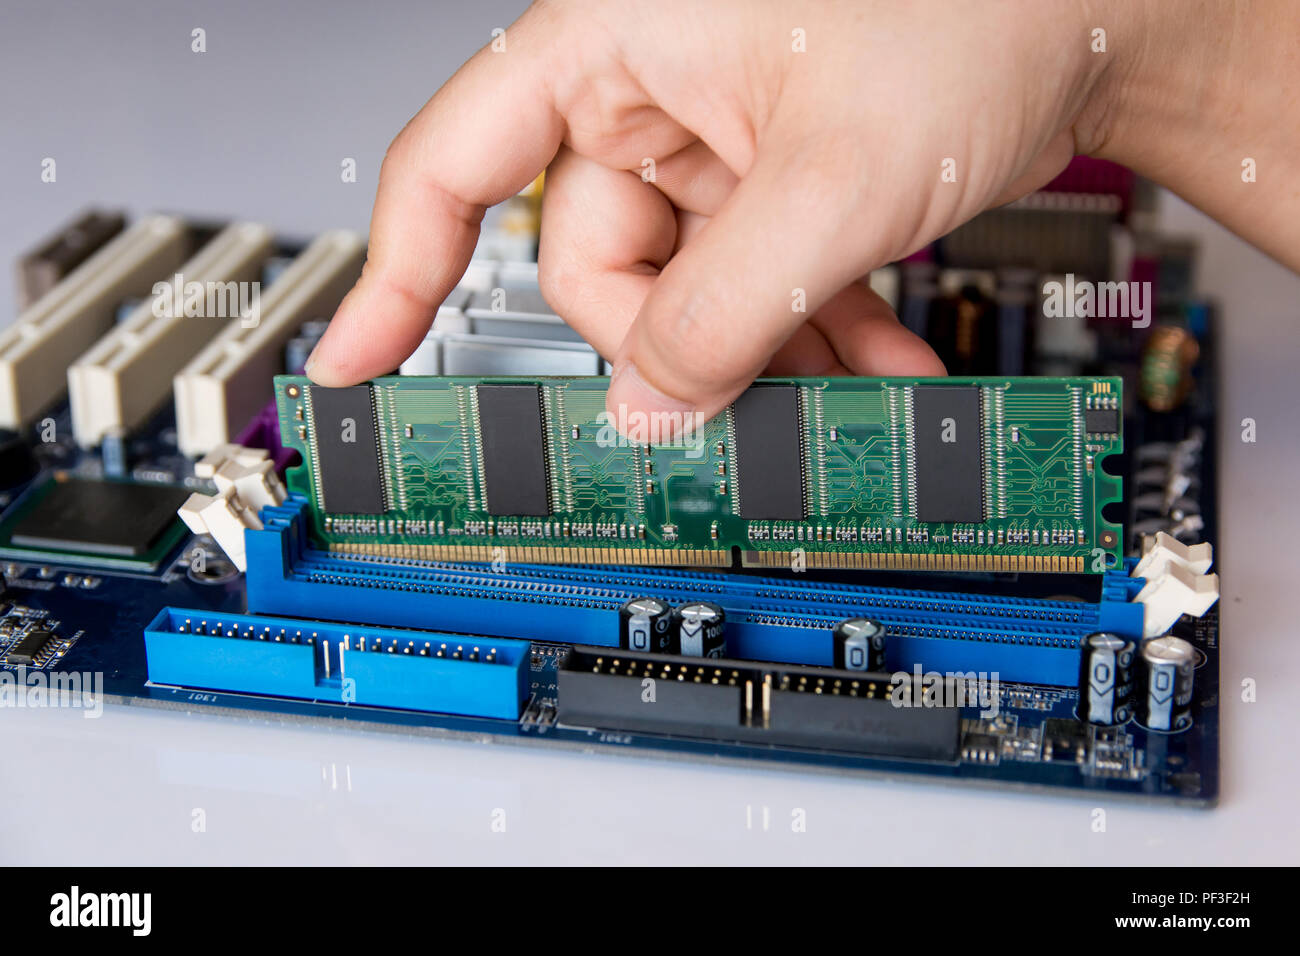ram: (270, 374, 1126, 578)
